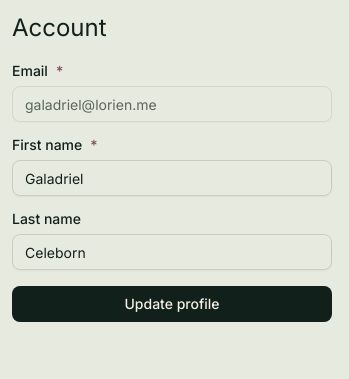
Test: ProfileForm › on submit › shows server error message when update fails
Click the button "Update profile". click: point(172, 304)
box: [12, 286, 332, 322]
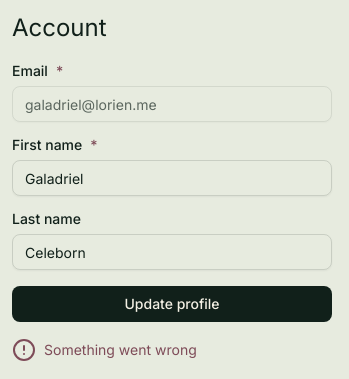
Check: the text "Something went wrong" is shown, box [44, 338, 197, 362]
